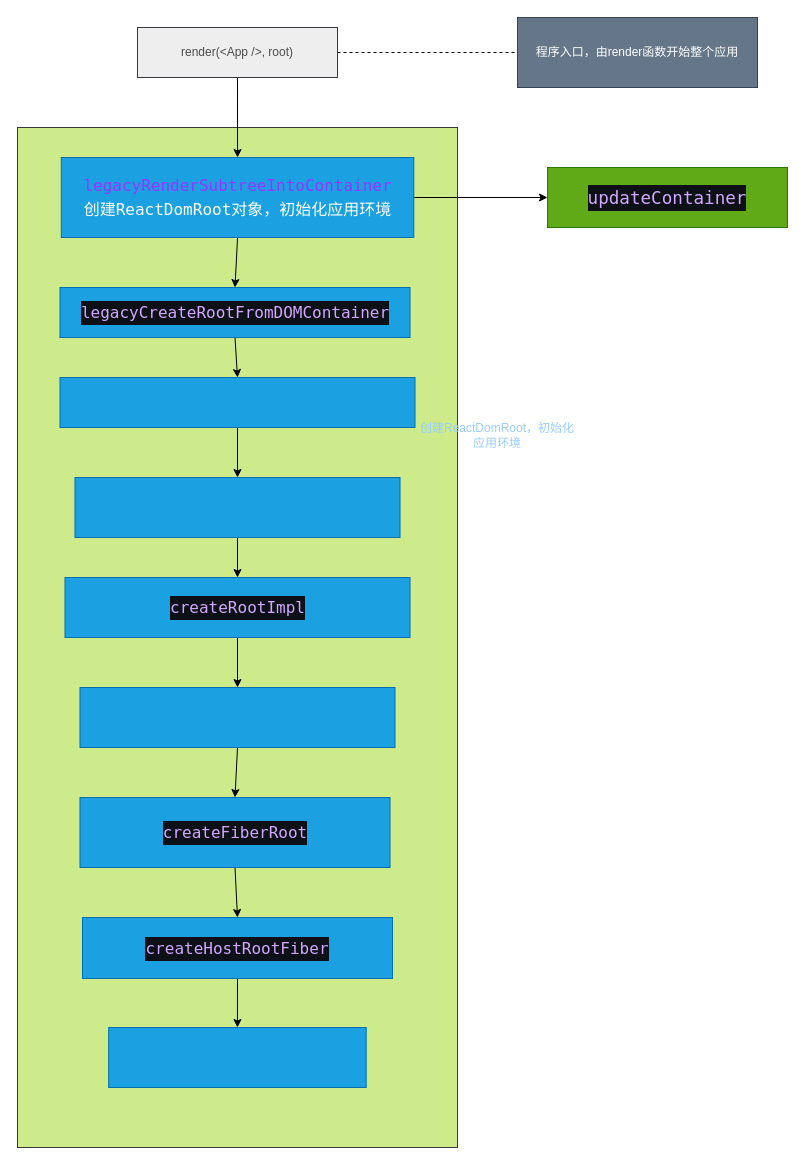
Image size: 805x1165. Some labels were removed from this diagram. The shapes that lost their labels are listed below. From the top down, each one's centre as x and y in pixels, then its label:
point (237, 402): createLegacyRoot
point (237, 507): ReactDOMBlockingRoot
point (237, 717): createContainer
point (237, 1057): createFiber
